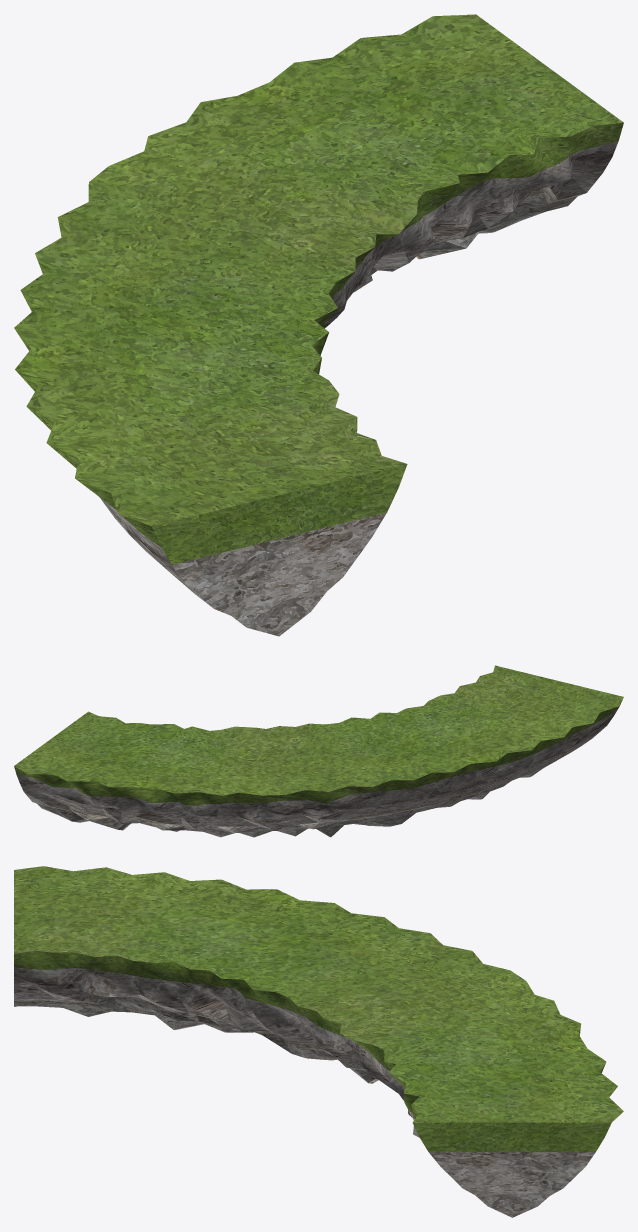
The model's file is Bocht90_short.FBX.
The picture shows the model from 3 angles, top to bottom: view 1: azimuth 30°, elevation 25°; view 2: azimuth 150°, elevation 25°; view 3: azimuth 270°, elevation 25°; orthographic projection. The views are drawn at different scales.
Parts seen in each view (by area): view 1: Bocht90_Way_Short_Final003; view 2: Bocht90_Way_Short_Final003; view 3: Bocht90_Way_Short_Final003.
Part boxes in pixels (left/top/right/bottom): Bocht90_Way_Short_Final003: left=14, top=14, right=623, bottom=636; Bocht90_Way_Short_Final003: left=14, top=665, right=623, bottom=837; Bocht90_Way_Short_Final003: left=14, top=866, right=623, bottom=1217.
Bounding box in the file's own units: 1218 × 245 × 1224.
